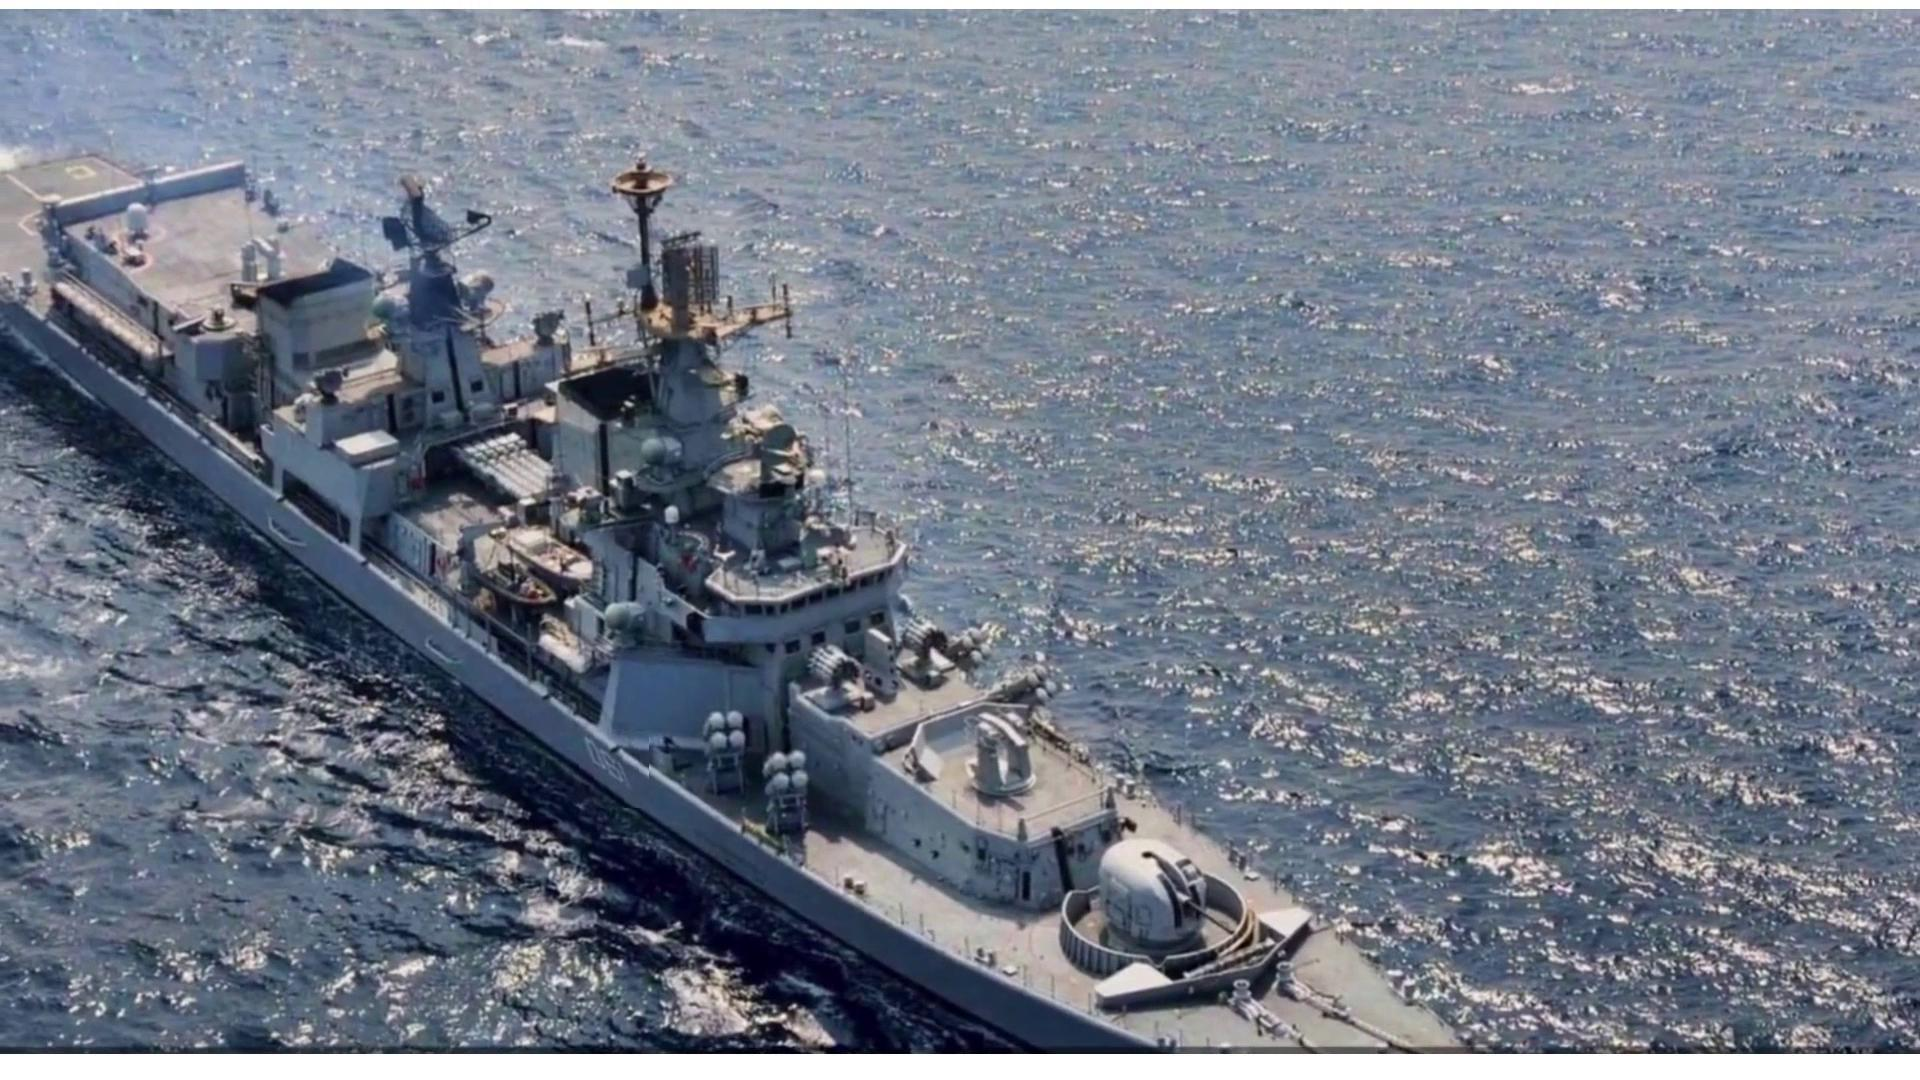OCR: (570, 728, 649, 808)
